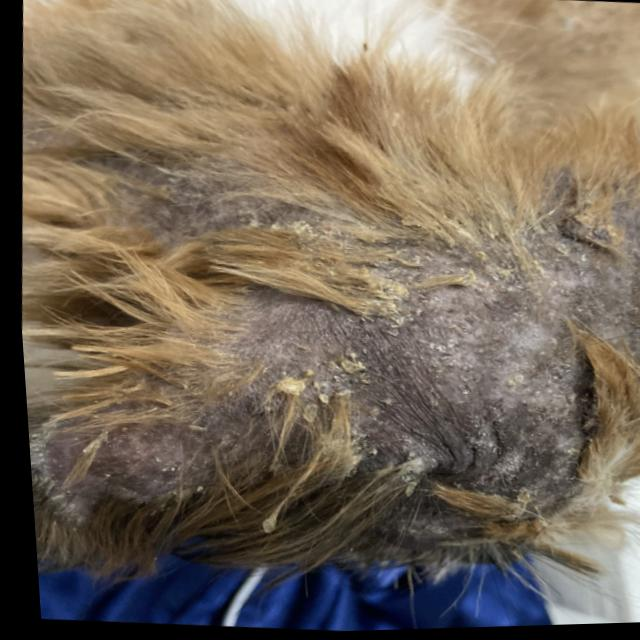demodicosis: (354, 268, 565, 492), (201, 313, 347, 426), (577, 232, 640, 329)
